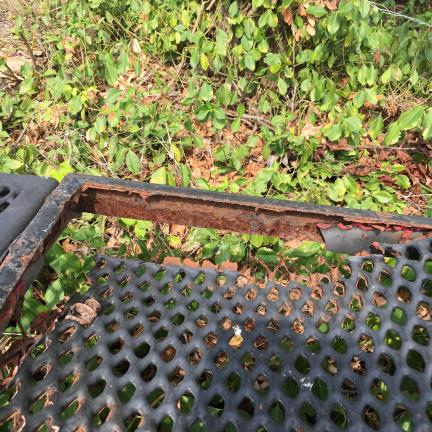besi_tidak_karat: (116, 295, 432, 431)
karat: (84, 187, 320, 243)
